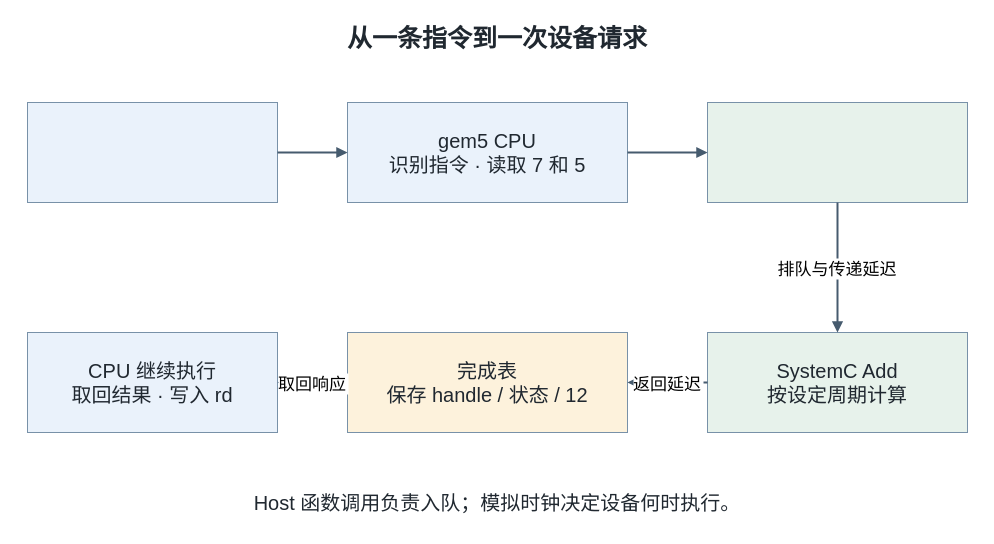
This 994x544 diagram has some shape labels left out. The box of each missing label's shape, as (x1, y1, x2, y2) in pixels:
Bridge 接受请求 · 分配 handle: (706, 102, 968, 202)
Guest npu_add rd, rs1, rs2: (26, 102, 278, 202)
